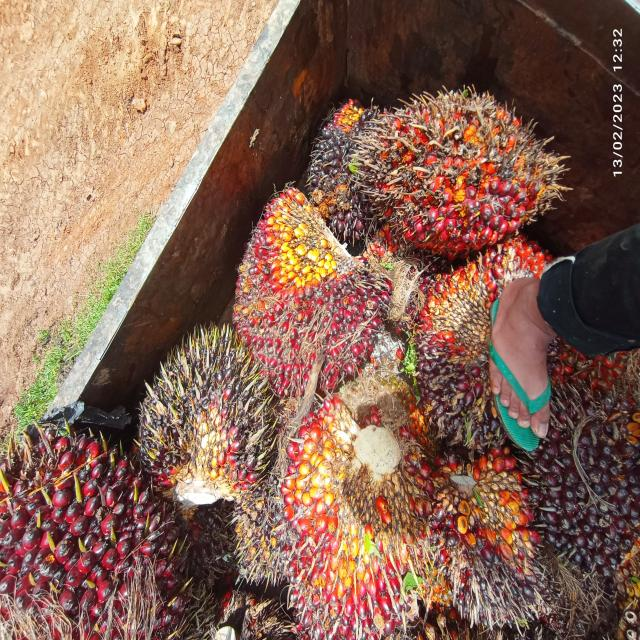fraksi 00: (136, 312, 268, 516), (519, 372, 640, 578), (308, 78, 379, 235)
fraksi 1: (218, 157, 378, 417), (422, 432, 568, 640)
fraksi 3: (364, 8, 562, 274), (268, 397, 423, 637)
